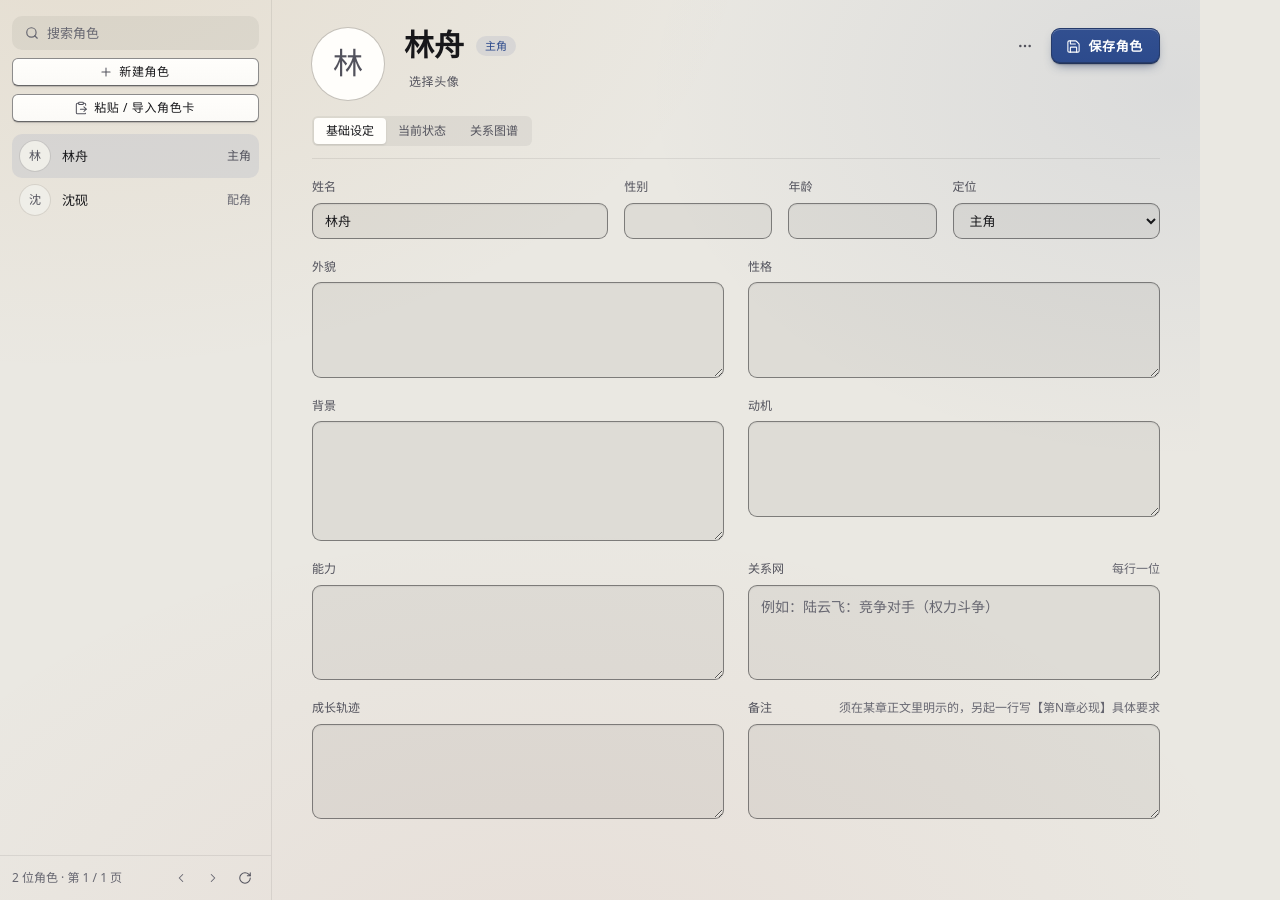
it: 角色名单 › 头像按钮只在基础设定视图里；当前状态与关系图谱视图没有点了没反应的头像按钮
The image size is (1280, 900).
Expected: the button "选择头像" is shown, [396,68,472,96]
Click the button "当前状态" at (422, 131), box [386,118,458,144]
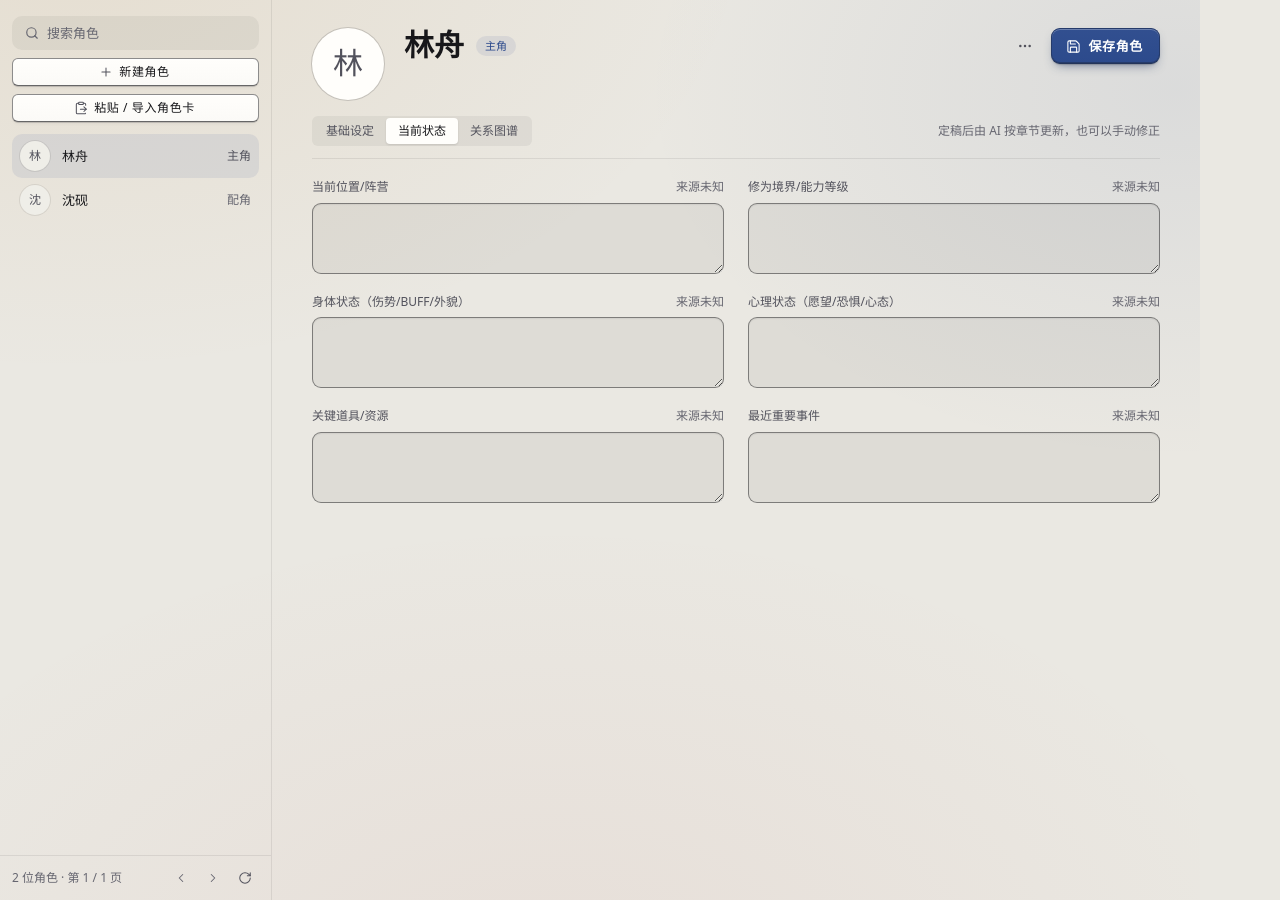
Click the button "关系图谱" at (494, 131), box [458,118,530,144]
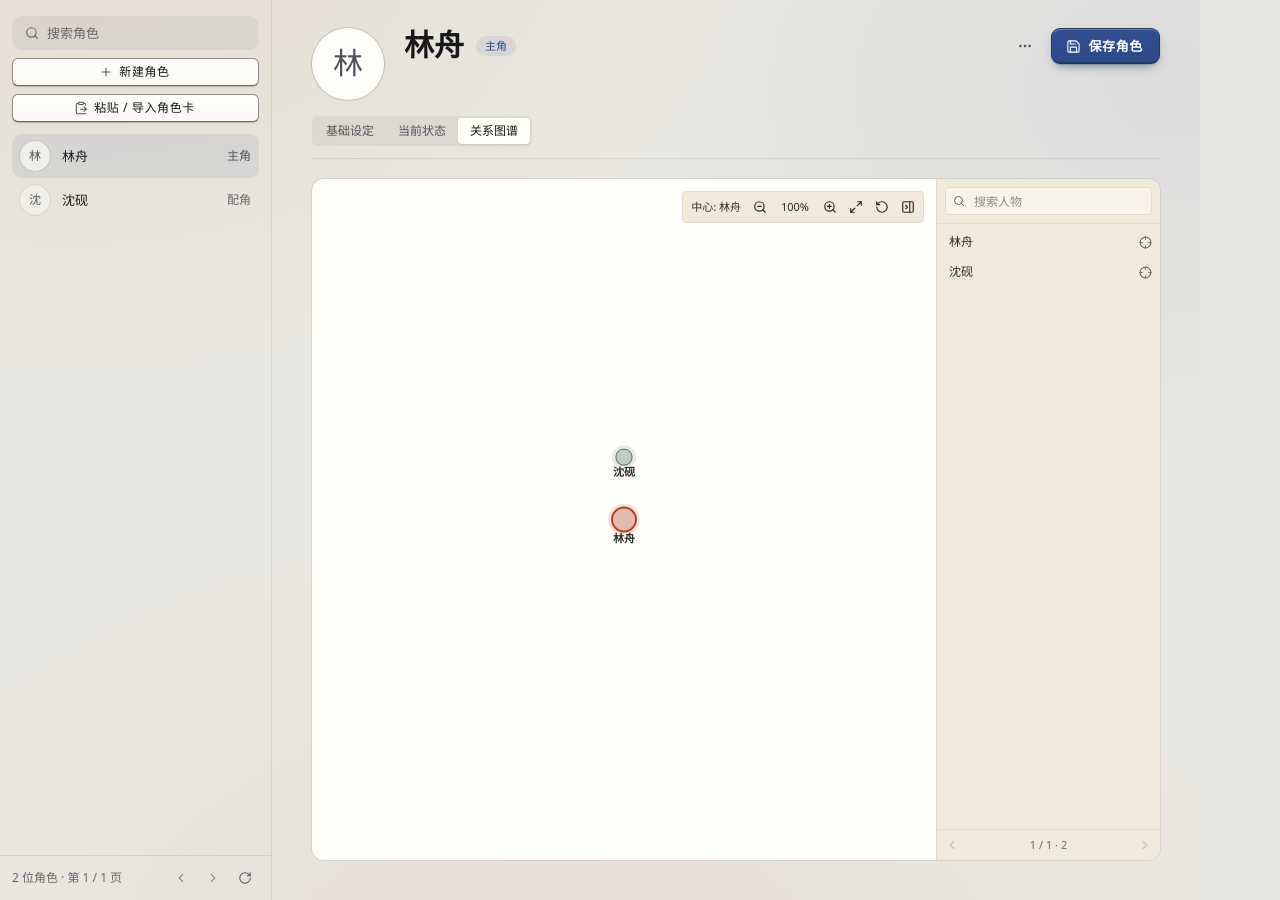
Click the button "基础设定" at (350, 131), box [314,118,386,144]
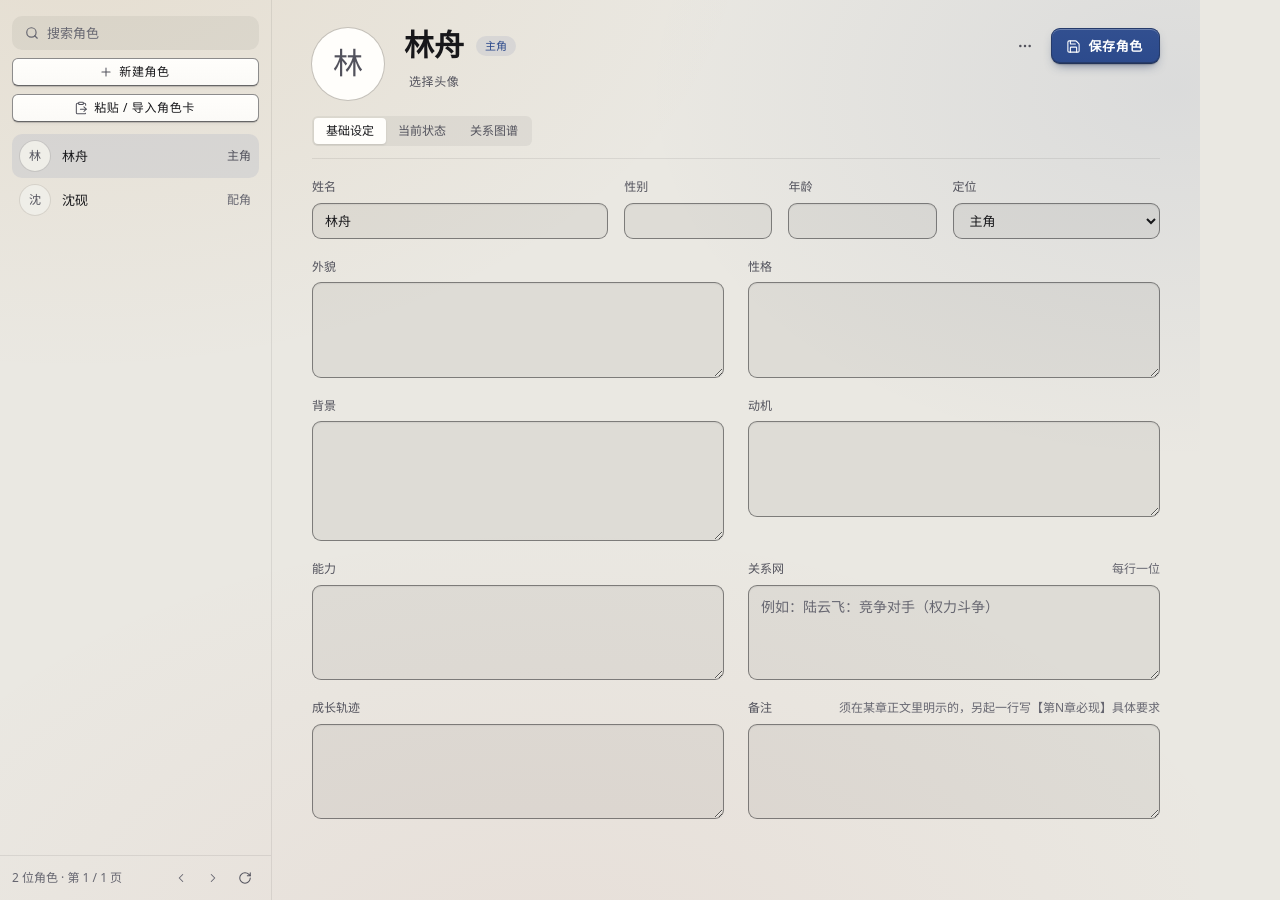
Expected: the button "选择头像" is shown, [396,68,472,96]
